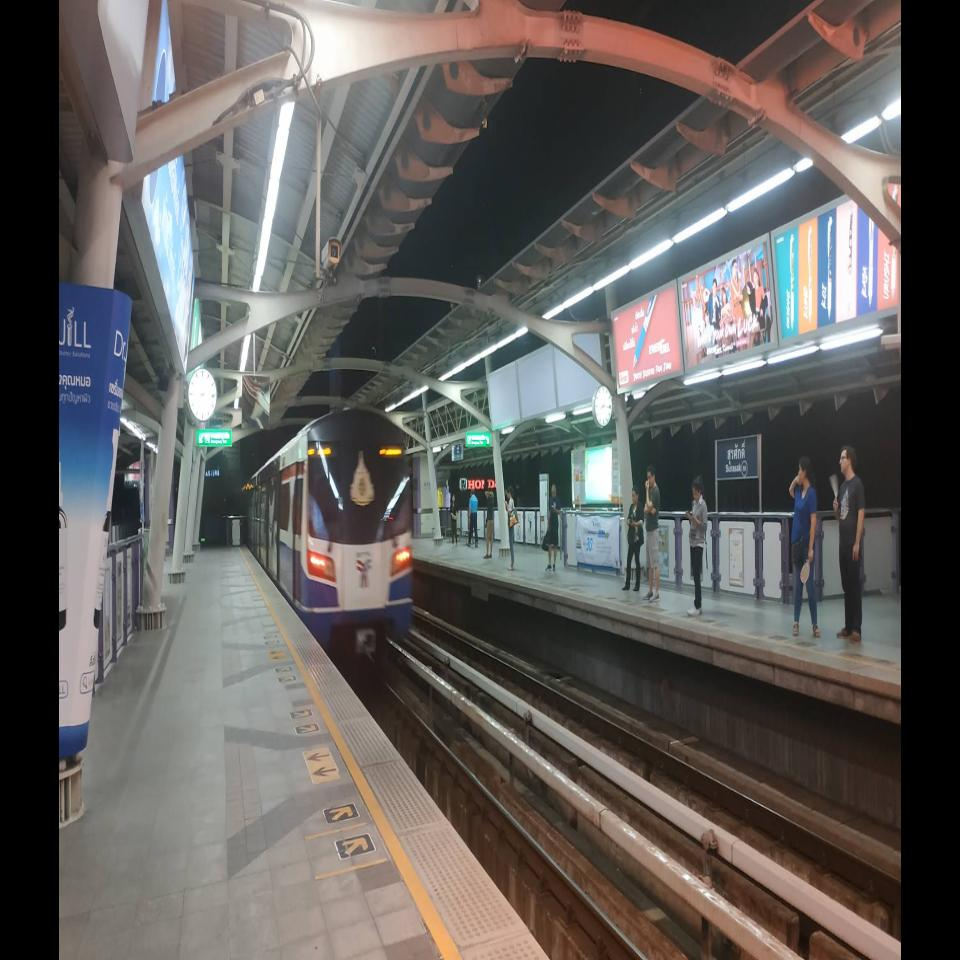signage: (715, 435, 760, 480)
